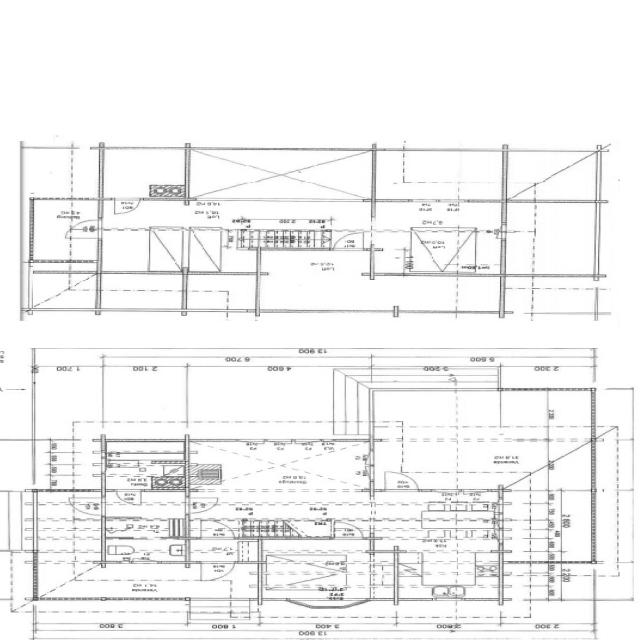door: (200, 518, 235, 540), (200, 562, 236, 583), (63, 220, 102, 239), (385, 471, 419, 492), (69, 498, 106, 516), (333, 231, 363, 250), (334, 522, 364, 540), (185, 498, 218, 513), (114, 198, 141, 215), (474, 224, 504, 238), (116, 489, 141, 505)
